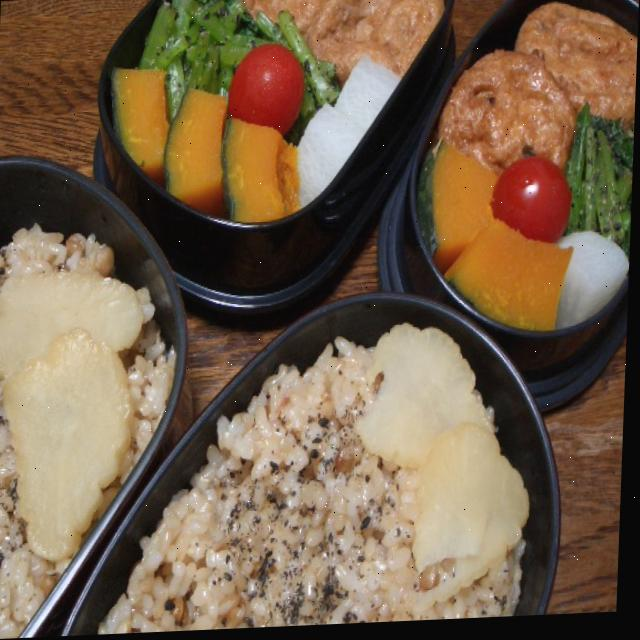熟制海鲜: (429, 0, 639, 188)
